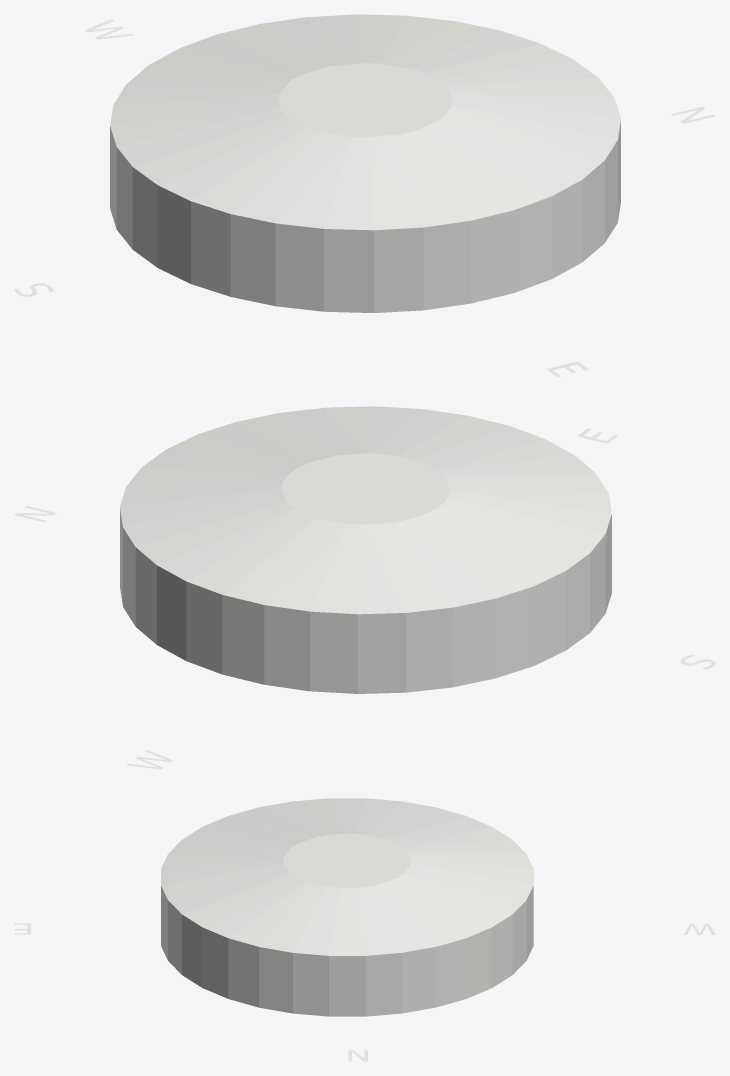
Rendered from KSPODome.glb.
3 renders of one model, top to bottom at view 1: azimuth 30°, elevation 25°; view 2: azimuth 150°, elevation 25°; view 3: azimuth 270°, elevation 25°, orthographic. The views are drawn at different scales.
Visible parts, largest first — view 1: mat_ID8; view 2: mat_ID8; view 3: mat_ID8.
Boxes of the visible parts, <box> form: mat_ID8: <box>14,14,715,377</box>; mat_ID8: <box>14,406,715,769</box>; mat_ID8: <box>14,798,715,1061</box>.
Size of the model in its own units: 211 by 29.92 by 247.
Materials: 6 (6 with a texture image).
